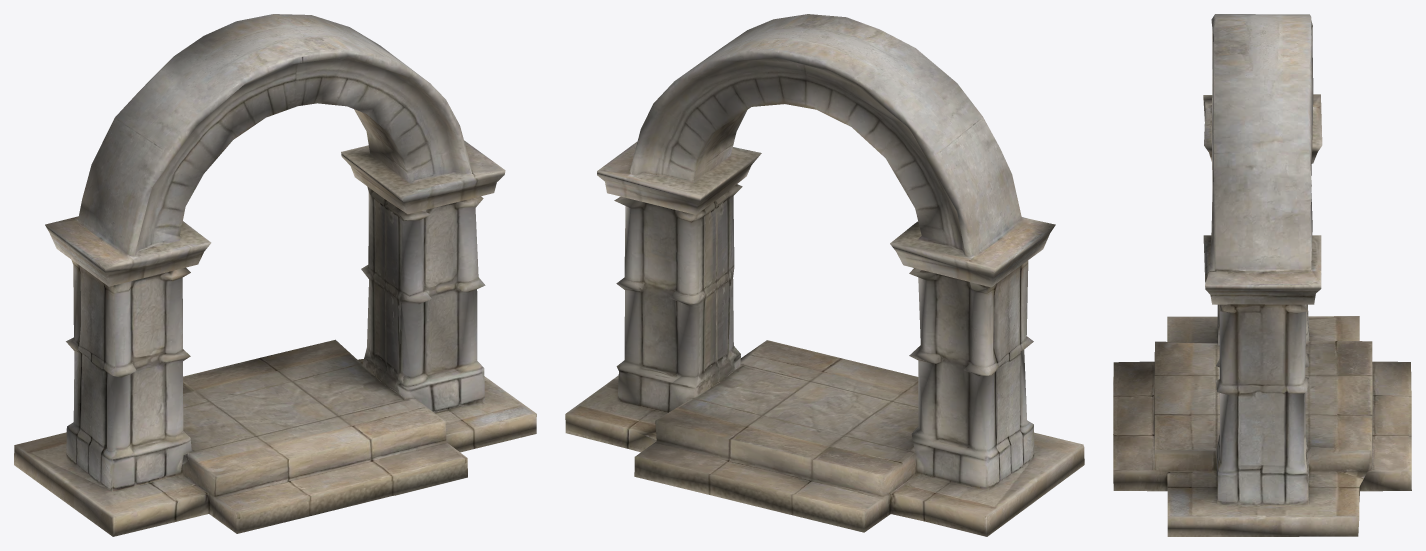
The model's file is archway-stone.glb.
3 views of the same model, side by side, from view 1: azimuth 30°, elevation 25°; view 2: azimuth 150°, elevation 25°; view 3: azimuth 270°, elevation 25° (orthographic). The views are drawn at different scales.
Parts seen in each view (by area): view 1: Mesh1.0; view 2: Mesh1.0; view 3: Mesh1.0.
Part boxes in pixels (x1,y1,x2,y2): Mesh1.0: (14,14,536,536); Mesh1.0: (565,14,1084,536); Mesh1.0: (1113,14,1411,536).
Bounding box in the file's own units: 2 × 1.87 × 1.25.
1 material, 1 textured.
